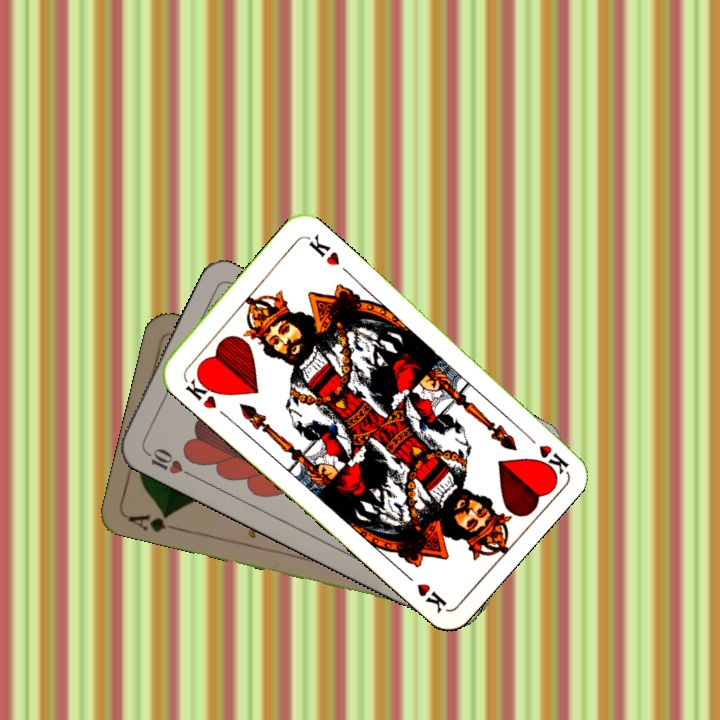GA: (124, 509, 183, 535)
H10: (140, 444, 195, 479)
HK: (520, 428, 571, 476), (180, 370, 222, 412)
